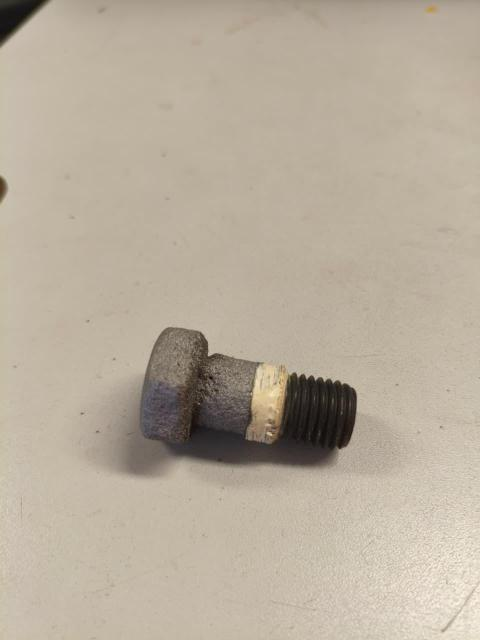Metal: (139, 326, 358, 454)
